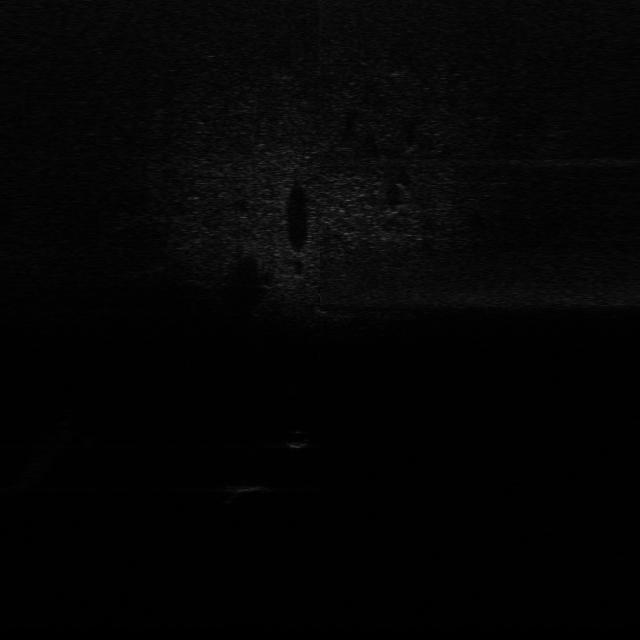ball: (281, 427, 313, 451)
square cage: (226, 478, 270, 496)
